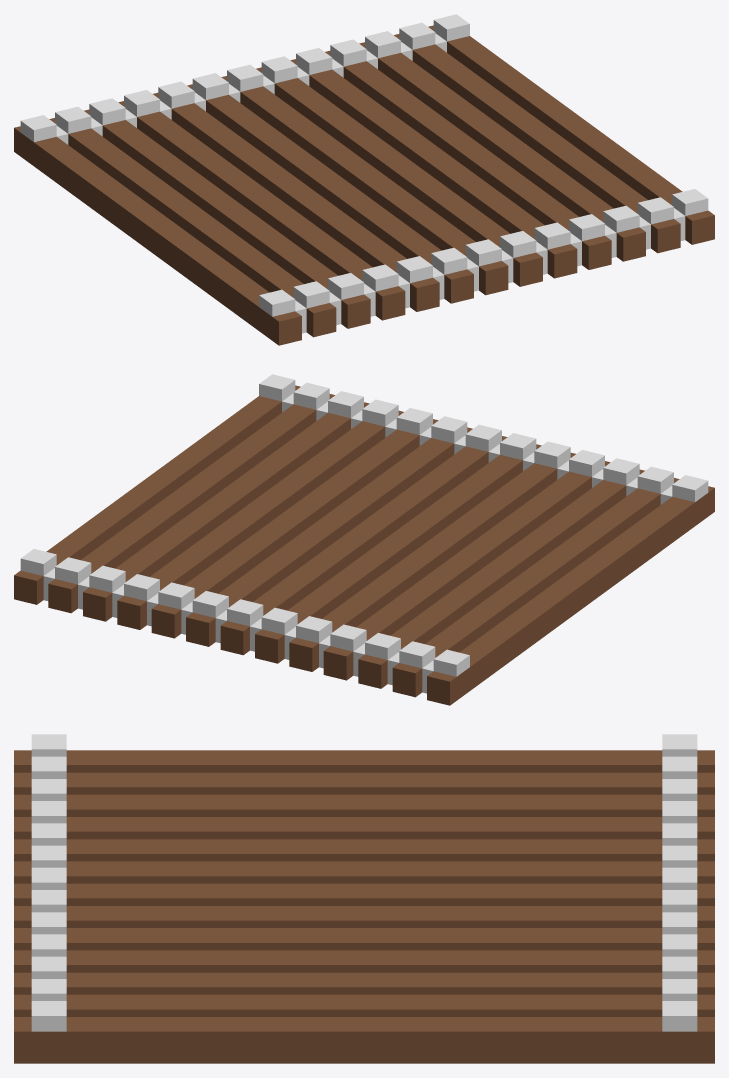
Rendered from Raft.obj.
3 views of the same model, one above another, from view 1: azimuth 30°, elevation 25°; view 2: azimuth 150°, elevation 25°; view 3: azimuth 270°, elevation 25° (orthographic). The views are drawn at different scales.
Size of the model in its own units: 3.8 by 0.3 by 4.
Materials: 1 (1 with a texture image).
